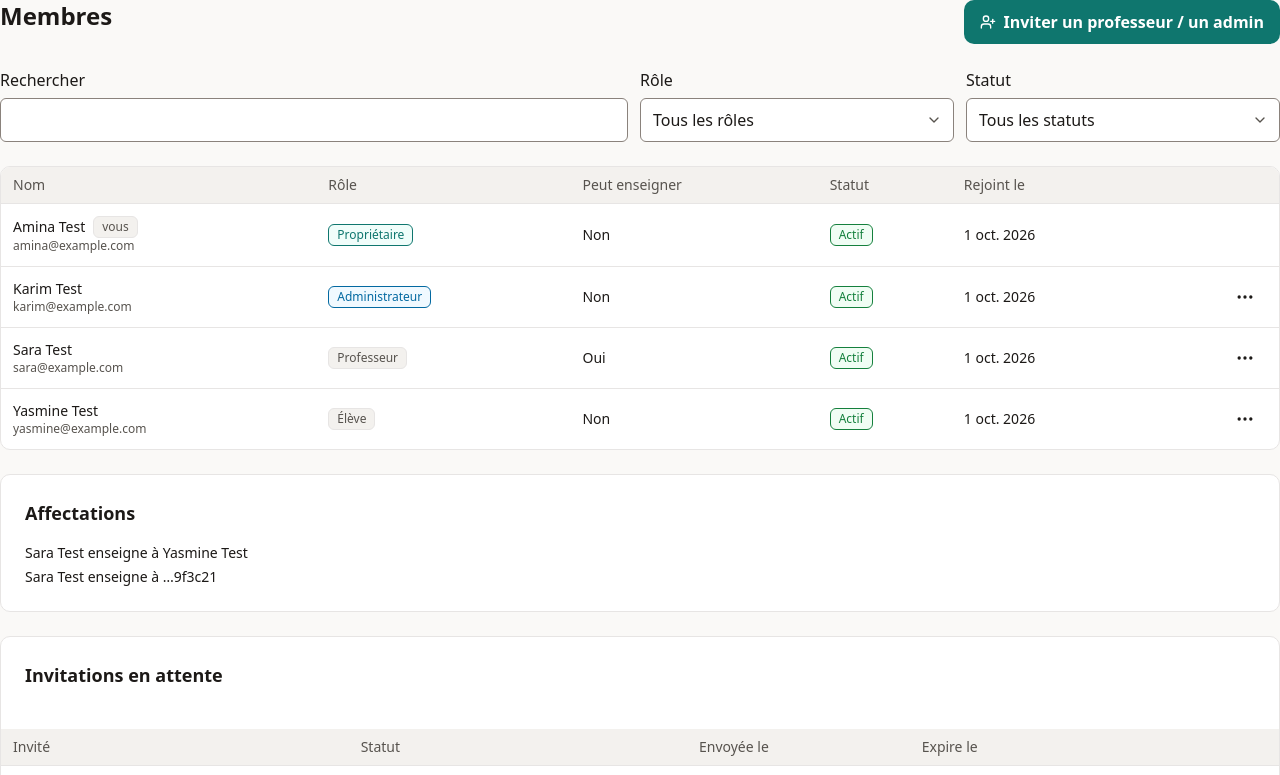
MembersPanel › the staff dialog posts a TEACHER invitation and reloads the pending list
Click the button "Inviter un professeur / un admin": (1122, 22) left=964, top=0, right=1279, bottom=44
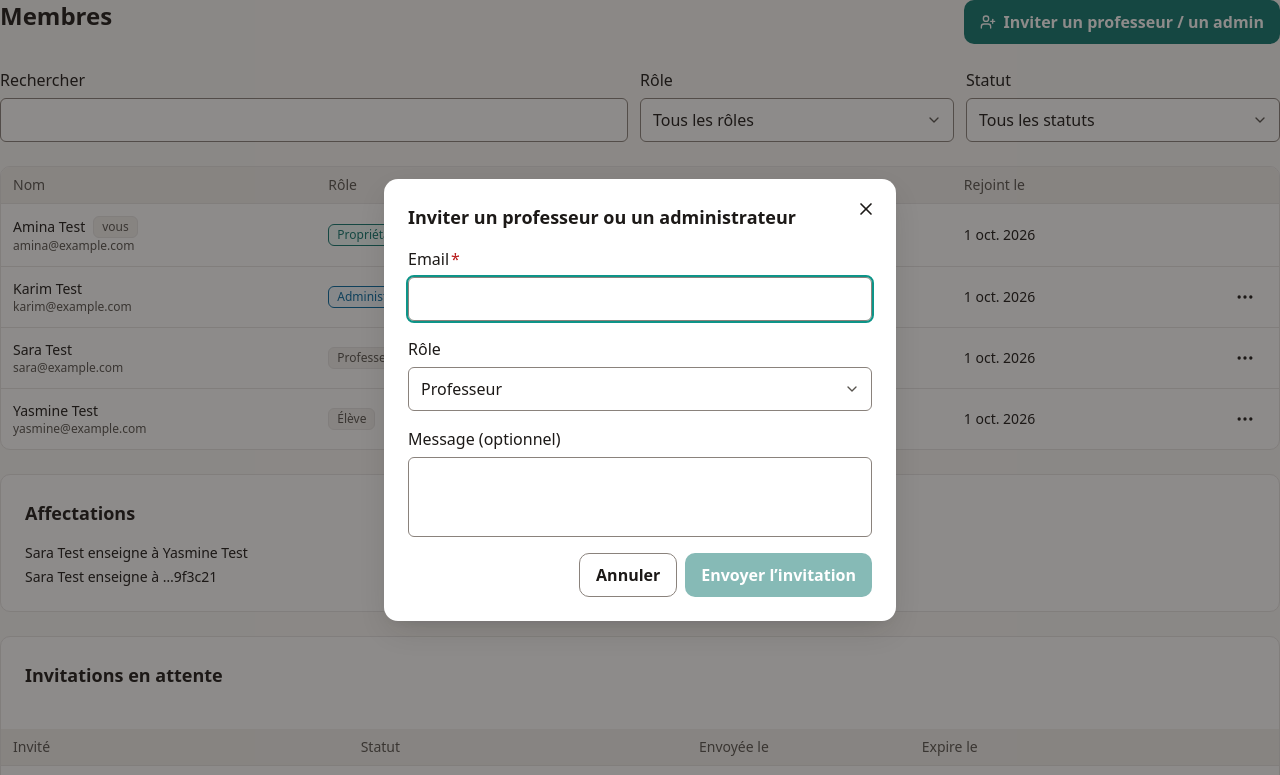
In the field labelled "Email": (640, 299) left=408, top=277, right=872, bottom=321, type "nadia@example.com"
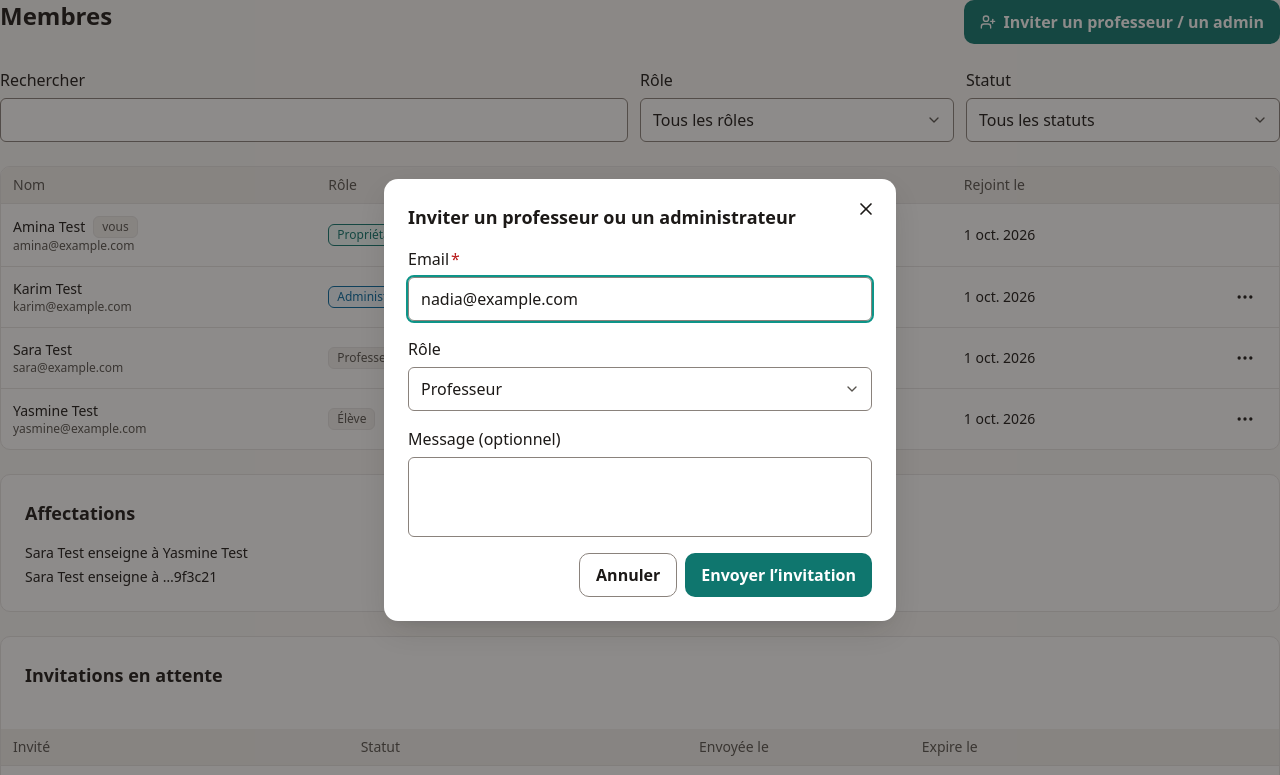
Click the button "Envoyer l’invitation": (779, 575) left=685, top=553, right=872, bottom=597
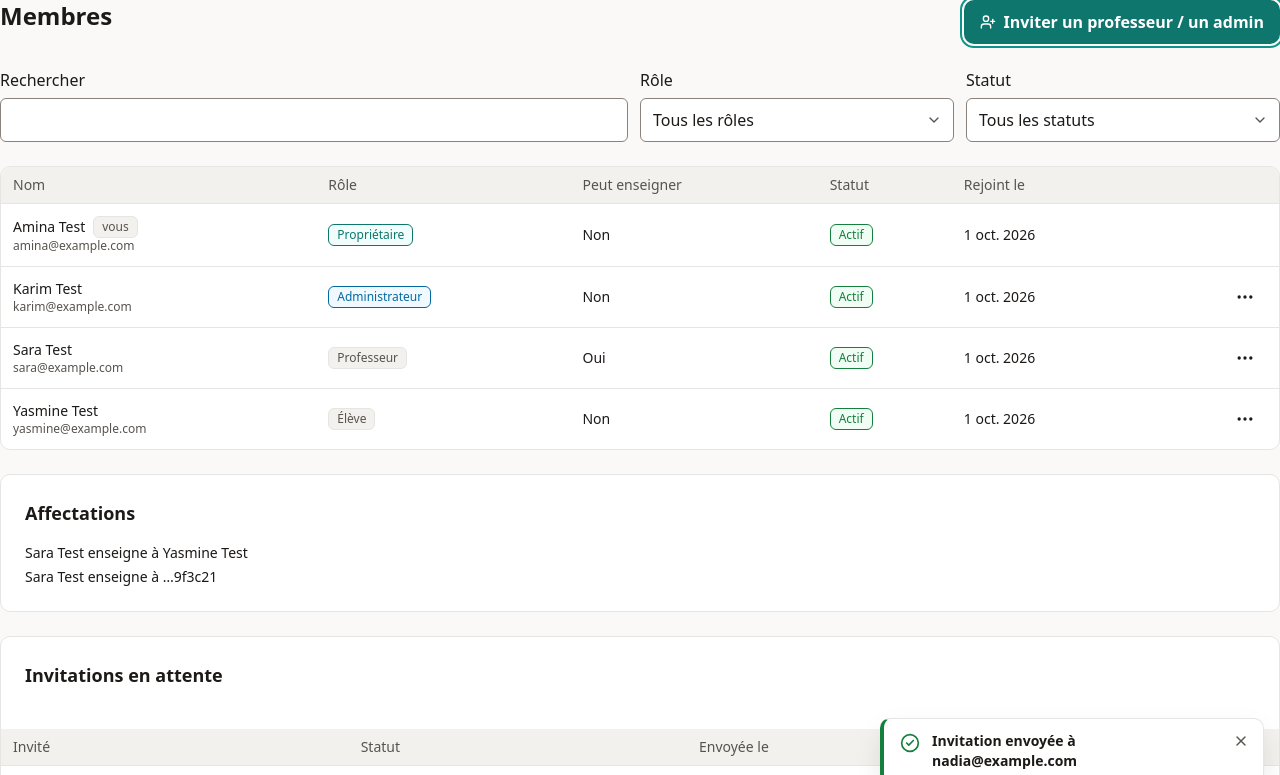
Check: the dialog is gone
